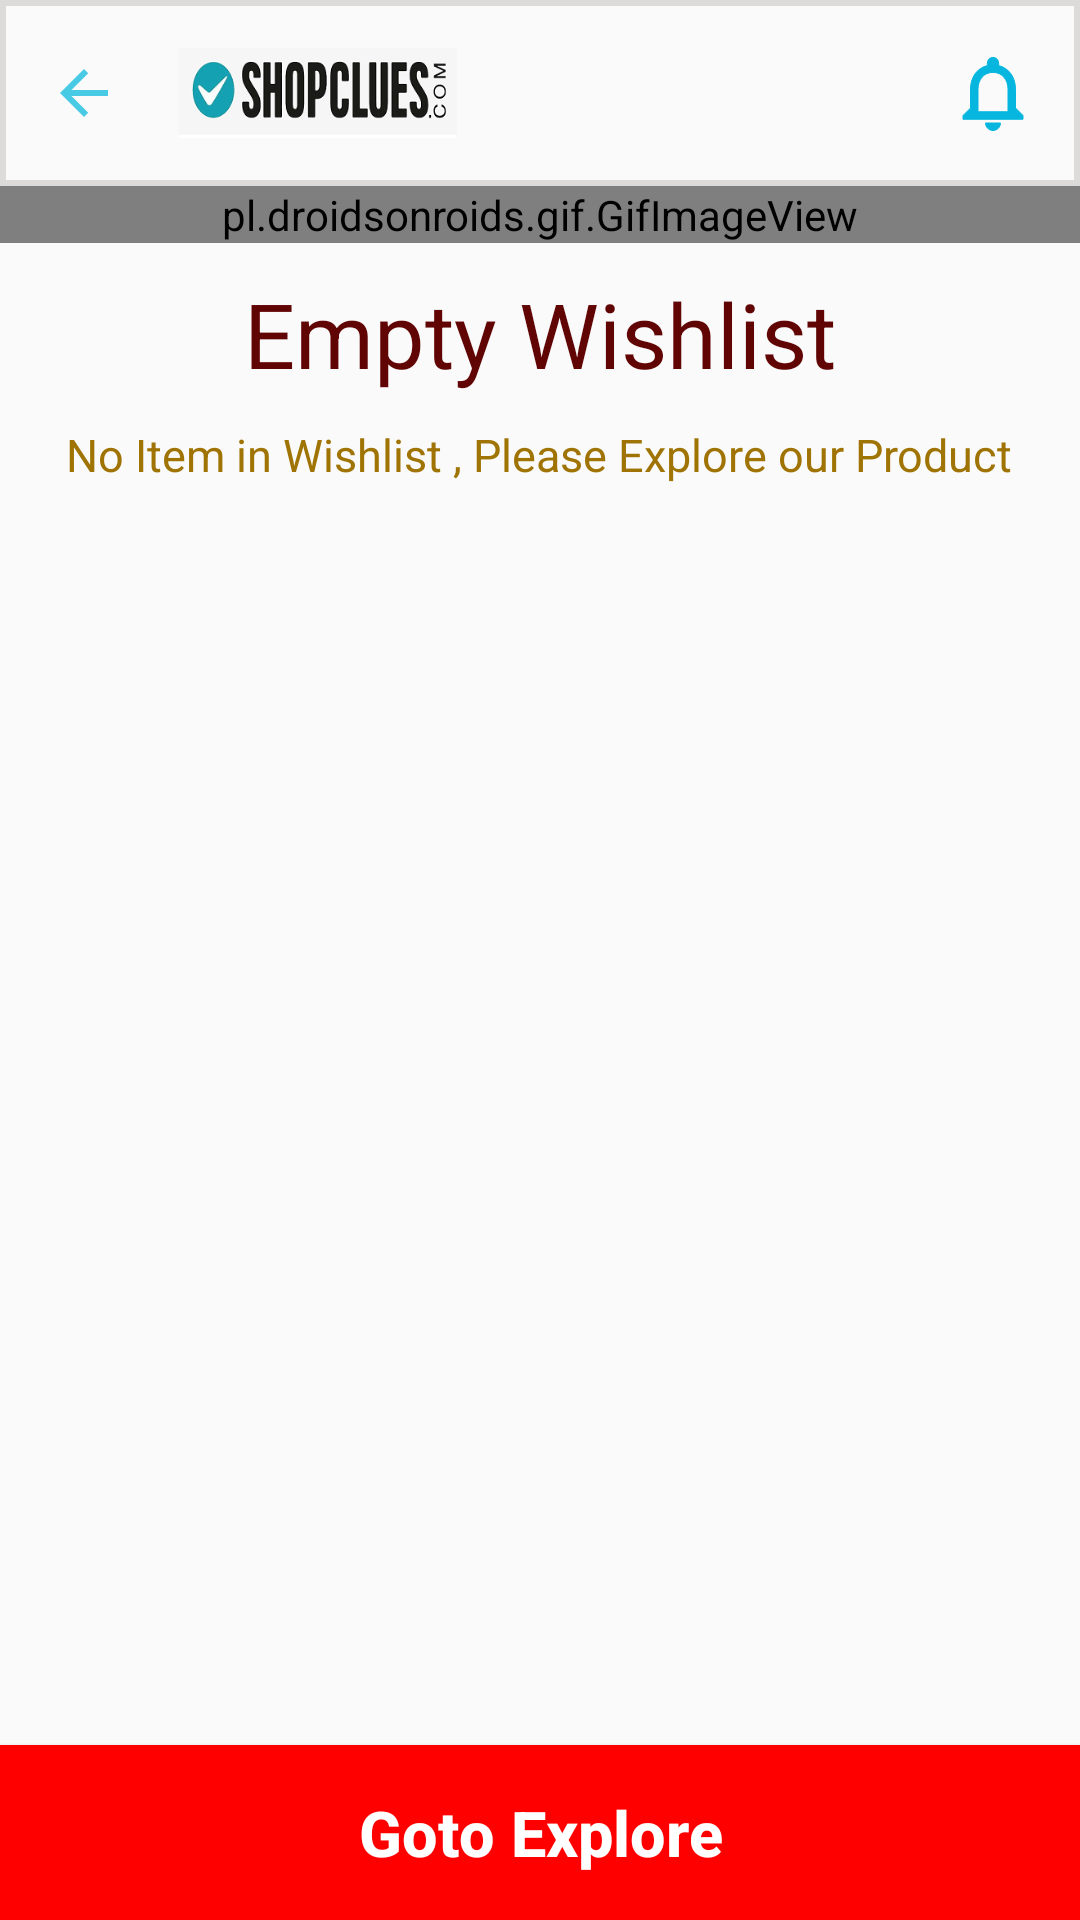

Icon bounding boxes for this 1080w x 1920h phone screenshot, format box(x1, y1, x2, y2):
arrow back: box(60, 69, 108, 117)
notification: box(962, 57, 1024, 131)
